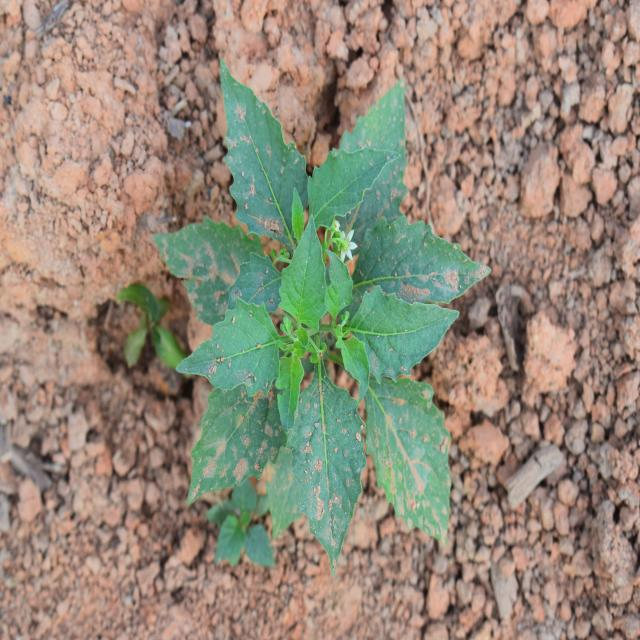Black_nightshade: (184, 76, 477, 548)
